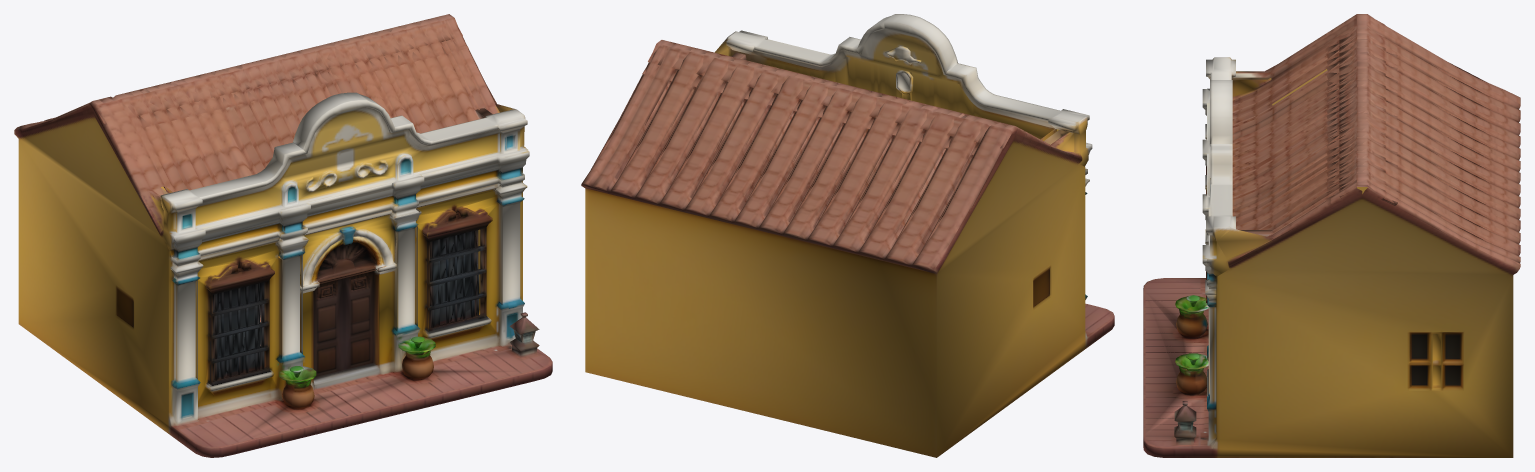
File: CasaTrad5.fbx
3 views of the same model, side by side, from view 1: azimuth 30°, elevation 25°; view 2: azimuth 150°, elevation 25°; view 3: azimuth 270°, elevation 25° (orthographic).
Visible parts, largest first — view 1: mesh_rep_0_ori_repair_quad; view 2: mesh_rep_0_ori_repair_quad; view 3: mesh_rep_0_ori_repair_quad.
Part boxes in pixels (x1,y1,x2,y2): mesh_rep_0_ori_repair_quad: [14, 14, 552, 457]; mesh_rep_0_ori_repair_quad: [581, 14, 1114, 457]; mesh_rep_0_ori_repair_quad: [1143, 14, 1520, 457].
Bounding box in the file's own units: 78.19 × 60.39 × 72.04.
Materials: 1 (1 with a texture image).
